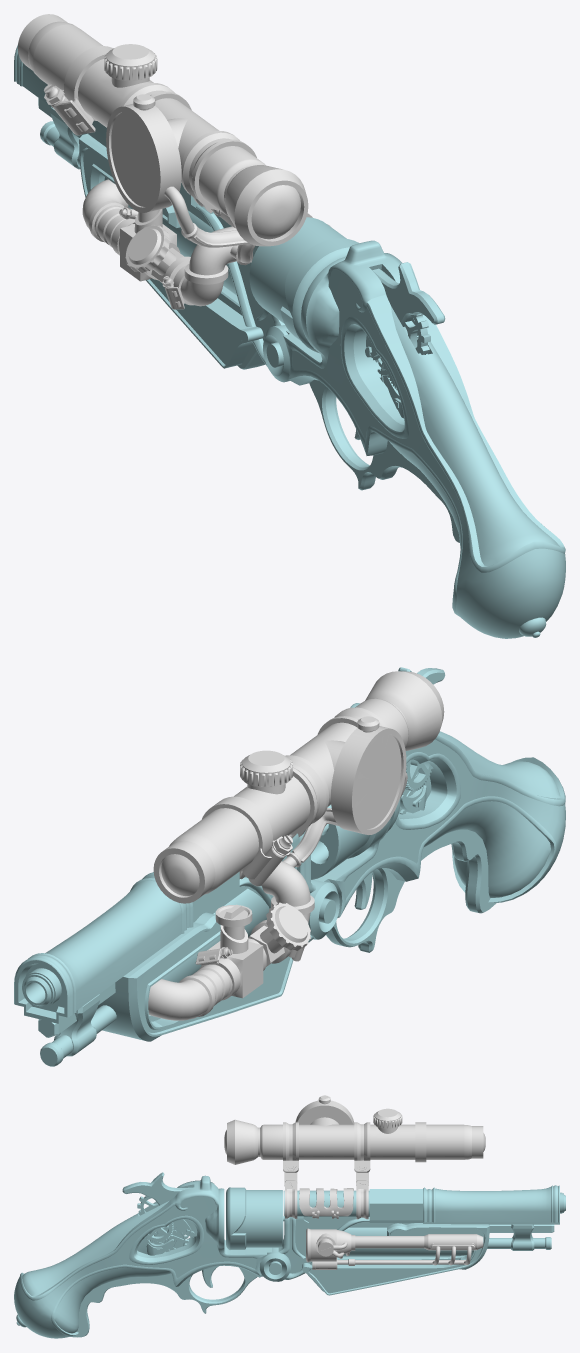
Rendered from Gun_Complete.fbx.
The picture shows the model from 3 angles, top to bottom: view 1: azimuth 30°, elevation 25°; view 2: azimuth 150°, elevation 25°; view 3: azimuth 270°, elevation 25°; orthographic projection. The views are drawn at different scales.
Visible parts, largest first — view 1: 10_low, 01_low.001, 07_low, 04_low, 20_low, 11_low, 14_low.001, 21_low, 15_low.001, 13_low, 02_low, 06_low.001 (+6 smaller); view 2: 10_low, 01_low.001, 08_low, 04_low, 21_low, 11_low, 14_low.001, 15_low.001, 20_low, 09_low, 06_low.001, 07_low (+10 smaller); view 3: 10_low, 01_low.001, 04_low, 08_low, 07_low, 02_low, 17_low, 06_low.001, 11_low, 01_low, 13_low, 03_low (+9 smaller).
Part boxes in pixels (x1=…): 10_low: x1=283, y1=240, x2=565, y2=638; 01_low.001: x1=17, y1=14, x2=308, y2=246; 07_low: x1=249, y1=217, x2=359, y2=353; 04_low: x1=79, y1=134, x2=265, y2=369; 20_low: x1=164, y1=186, x2=255, y2=306; 11_low: x1=309, y1=379, x2=546, y2=637; 14_low.001: x1=106, y1=104, x2=181, y2=212; 21_low: x1=82, y1=179, x2=180, y2=281; 15_low.001: x1=111, y1=112, x2=157, y2=206; 13_low: x1=367, y1=262, x2=445, y2=387; 02_low: x1=196, y1=205, x2=290, y2=382; 06_low.001: x1=119, y1=83, x2=312, y2=217; 10_low: x1=314, y1=703, x2=565, y2=917; 01_low.001: x1=153, y1=671, x2=444, y2=903; 08_low: x1=14, y1=872, x2=193, y2=1023; 04_low: x1=97, y1=886, x2=293, y2=1041; 21_low: x1=148, y1=905, x2=266, y2=1020; 11_low: x1=326, y1=829, x2=496, y2=952; 14_low.001: x1=331, y1=726, x2=406, y2=834; 15_low.001: x1=354, y1=734, x2=401, y2=828; 20_low: x1=250, y1=772, x2=407, y2=963; 09_low: x1=22, y1=968, x2=100, y2=1056; 06_low.001: x1=239, y1=707, x2=387, y2=879; 07_low: x1=311, y1=805, x2=392, y2=879; 10_low: x1=14, y1=1175, x2=271, y2=1338; 01_low.001: x1=224, y1=1108, x2=485, y2=1164; 04_low: x1=302, y1=1221, x2=489, y2=1295; 08_low: x1=423, y1=1185, x2=559, y2=1224; 07_low: x1=226, y1=1187, x2=284, y2=1249; 02_low: x1=259, y1=1190, x2=369, y2=1281; 17_low: x1=306, y1=1228, x2=483, y2=1262; 06_low.001: x1=283, y1=1122, x2=370, y2=1219; 11_low: x1=16, y1=1267, x2=257, y2=1337; 01_low: x1=369, y1=1189, x2=422, y2=1222; 13_low: x1=122, y1=1172, x2=194, y2=1250; 03_low: x1=343, y1=1227, x2=467, y2=1256.
Bounding box in the file's own units: 90.96 × 167 × 399.
